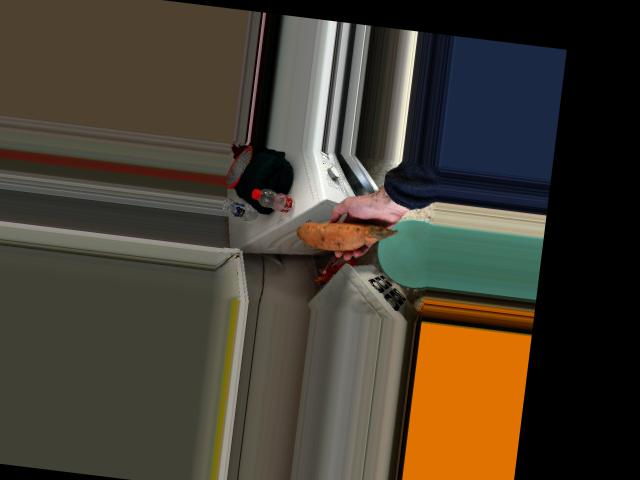sweet_potato: (296, 216, 383, 259)
